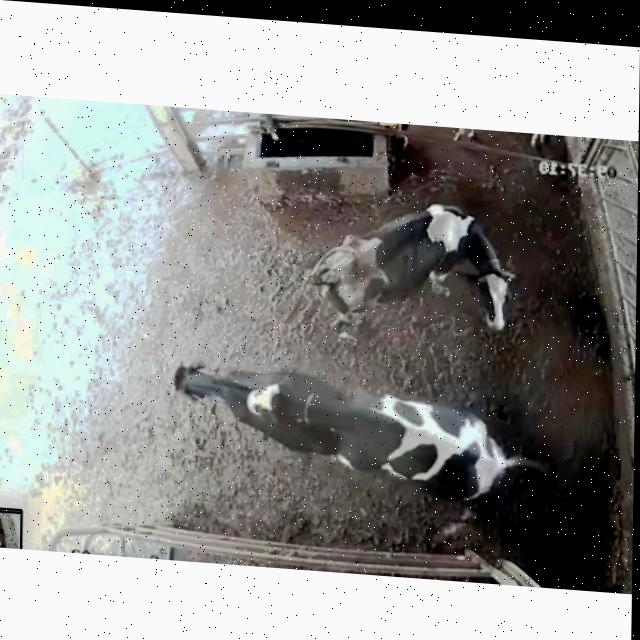ride: (244, 371, 547, 516)
